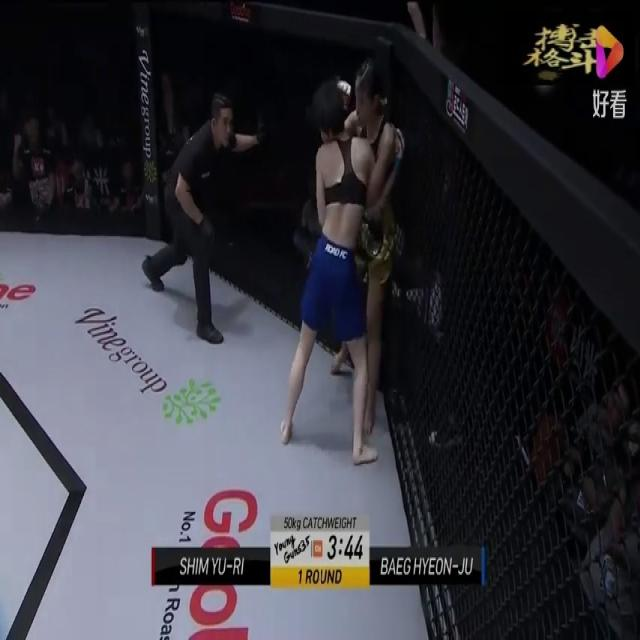fight: (282, 51, 409, 474)
non-fight: (140, 70, 268, 350)
